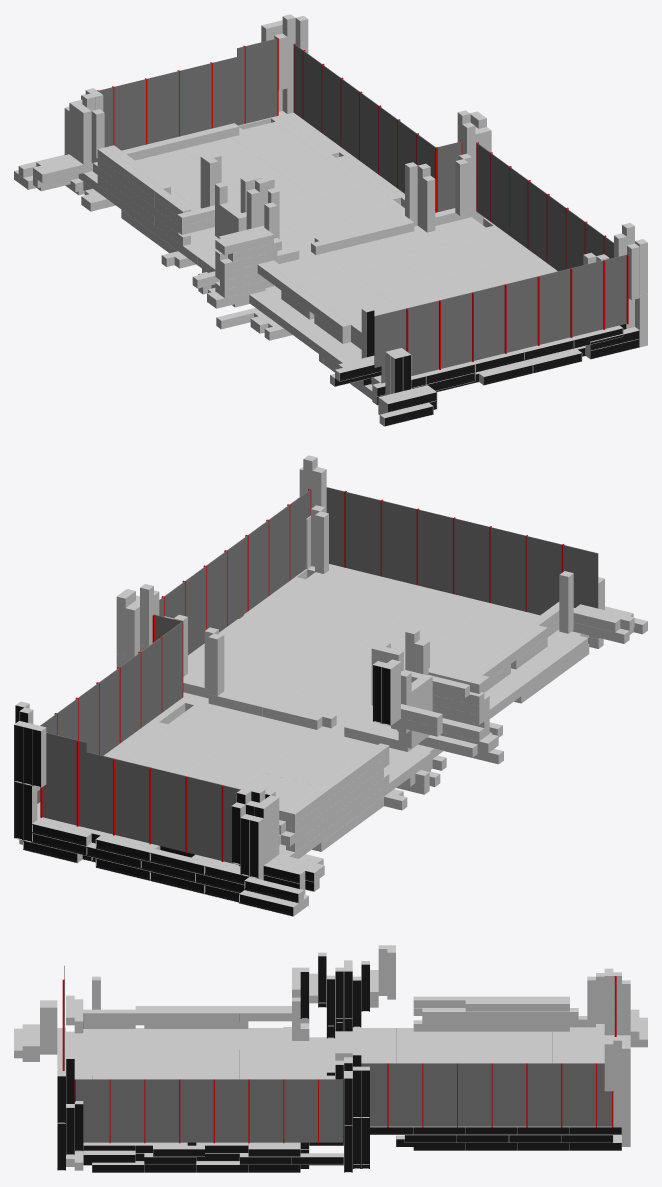
File: PP_Simulation_G1.FBX
The picture shows the model from 3 angles, top to bottom: view 1: azimuth 30°, elevation 25°; view 2: azimuth 150°, elevation 25°; view 3: azimuth 270°, elevation 25°; orthographic projection. The views are drawn at different scales.
Visible parts, largest first — view 1: 3dSolid (×28), Block:SLAB (×28), Block:Linear (×23); view 2: 3dSolid (×26), Block:SLAB (×29), Block:Linear (×22); view 3: Block:Linear (×75), 3dSolid (×16), Block:SLAB (×22).
Boxes of the visible parts, <box> form: 3dSolid (×28): <box>99,38,626,383</box>; Block:SLAB (×28): <box>135,121,548,365</box>; Block:Linear (×23): <box>37,107,647,426</box>; 3dSolid (×26): <box>42,487,598,864</box>; Block:SLAB (×29): <box>129,572,587,807</box>; Block:Linear (×22): <box>23,511,620,916</box>; Block:Linear (×75): <box>40,945,630,1172</box>; 3dSolid (×16): <box>76,1063,611,1142</box>; Block:SLAB (×22): <box>83,1028,595,1079</box>.
Bounding box in the file's own units: 14.25 × 5.25 × 27.38.
